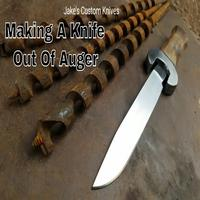knife: (91, 23, 187, 193)
